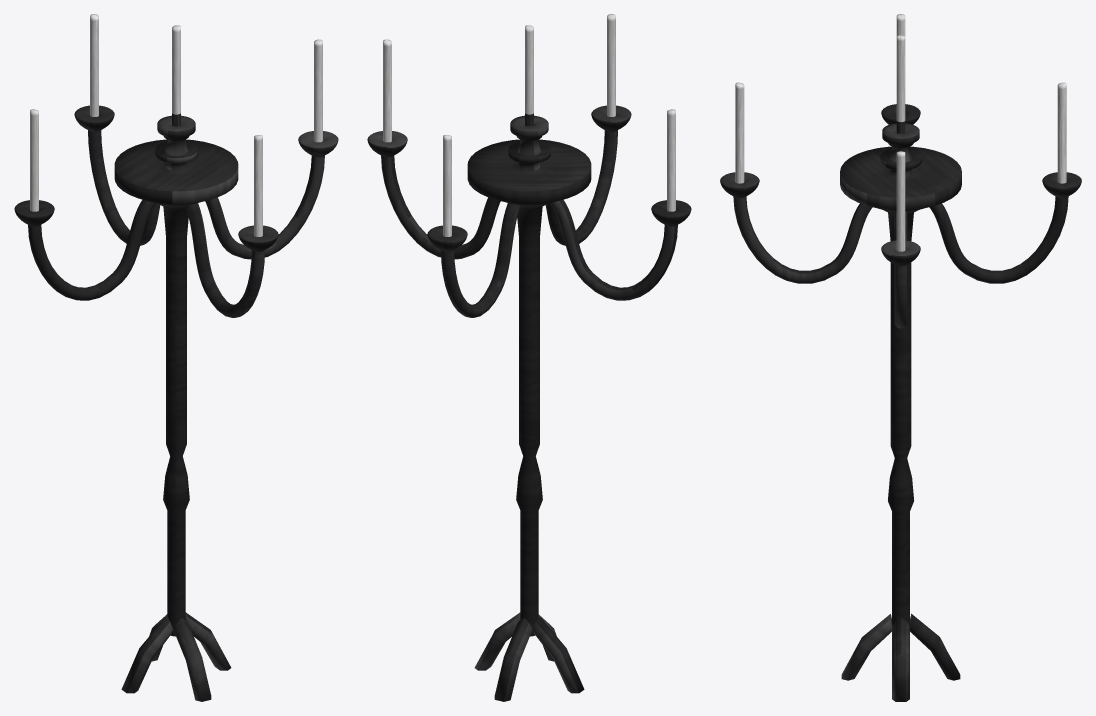
Rendered from Torch.obj.
3 views of the same model, side by side, from view 1: azimuth 30°, elevation 25°; view 2: azimuth 150°, elevation 25°; view 3: azimuth 270°, elevation 25° (orthographic).
Visible parts, largest first — view 1: BezierCurve.002; view 2: BezierCurve.002; view 3: BezierCurve.002.
Part boxes in pixels (box(x1,y1,x2,y2)): BezierCurve.002: box(14, 14, 338, 701); BezierCurve.002: box(367, 14, 691, 701); BezierCurve.002: box(720, 14, 1081, 701).
Size of the model in its own units: 3.64 by 7.12 by 3.64.
